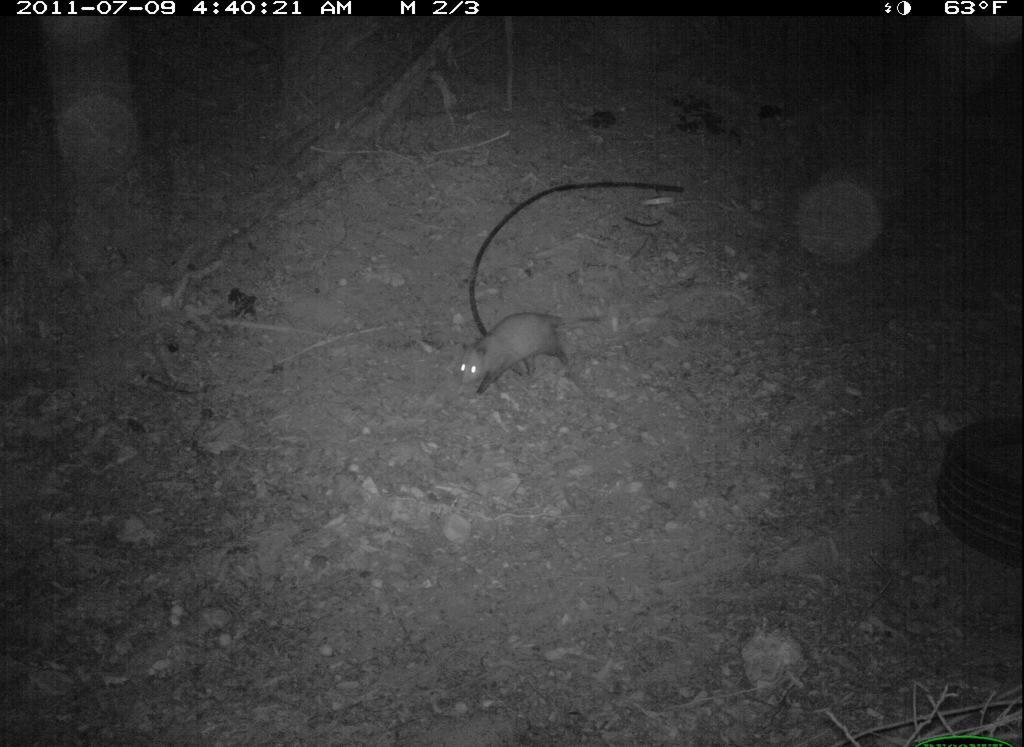opossum: (443, 299, 606, 402)
